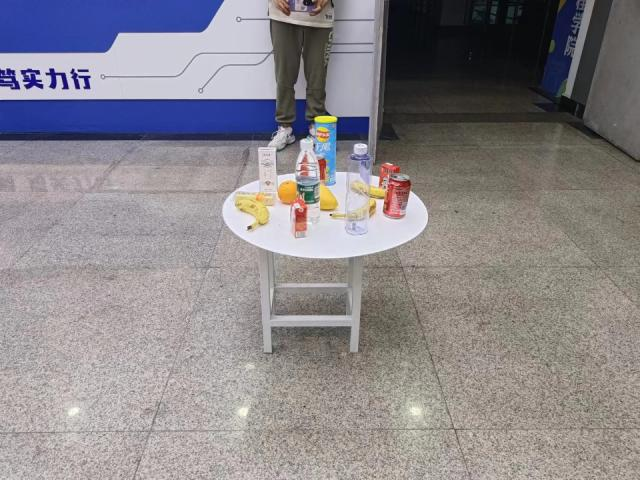Canned_drinks: (383, 173, 411, 218)
bottle: (343, 141, 372, 237), (296, 138, 321, 226)
cylinder: (314, 115, 339, 186)
drink_box: (258, 146, 278, 192), (289, 198, 308, 239), (380, 161, 399, 191)
